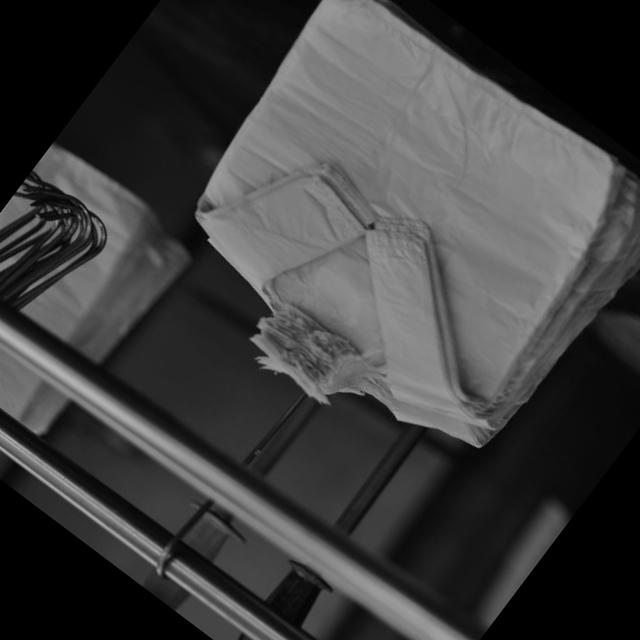KantongPlastik: (122, 0, 640, 515)
